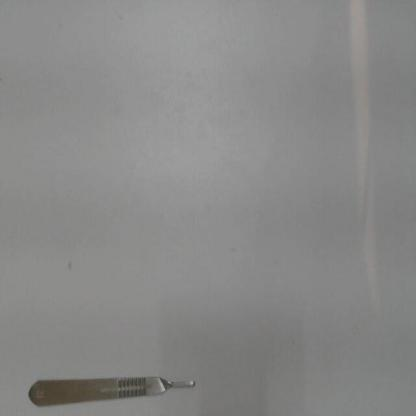No.3 BP Handle: (21, 373, 201, 409)
